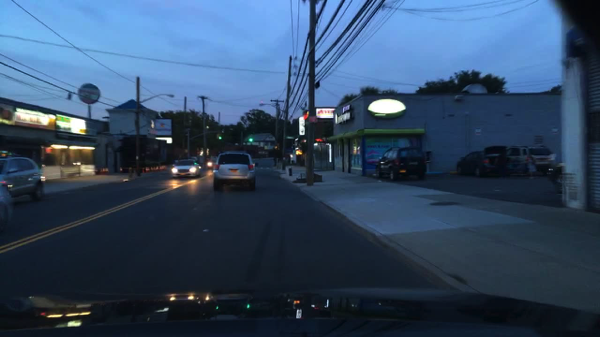car: (0, 153, 44, 201), (212, 152, 257, 194), (455, 144, 509, 178), (376, 145, 426, 181), (0, 180, 14, 232), (527, 147, 553, 175), (506, 145, 528, 177), (169, 159, 202, 179), (548, 163, 564, 194)
person: (523, 153, 539, 180), (272, 151, 278, 168)
traffic light: (248, 134, 253, 143), (218, 132, 221, 139)
traffic sign: (306, 115, 317, 123)
